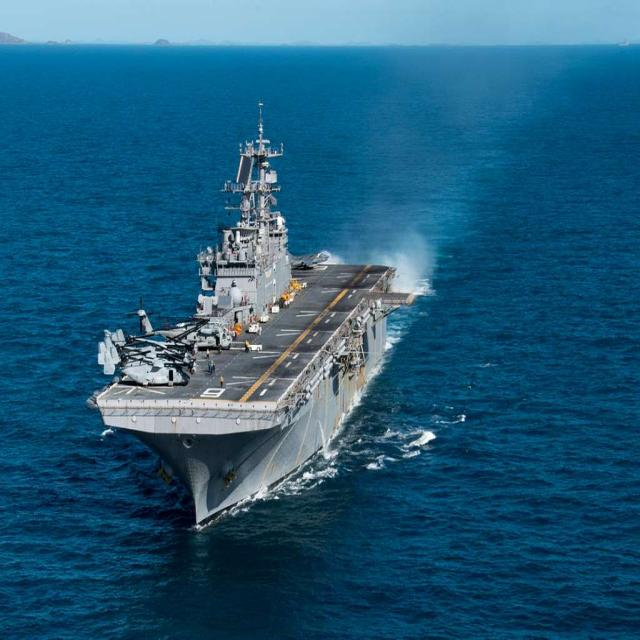navalvessels: (77, 108, 415, 528)
